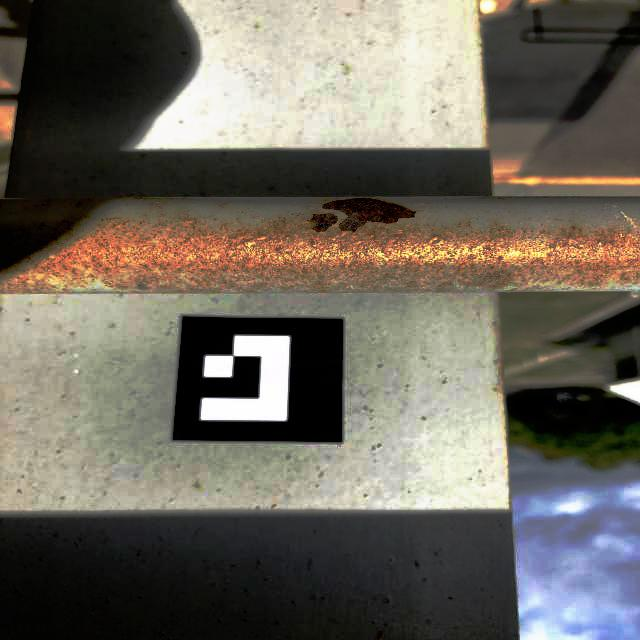Corrosion: (0, 198, 640, 294), (322, 198, 417, 232), (306, 213, 338, 233)
